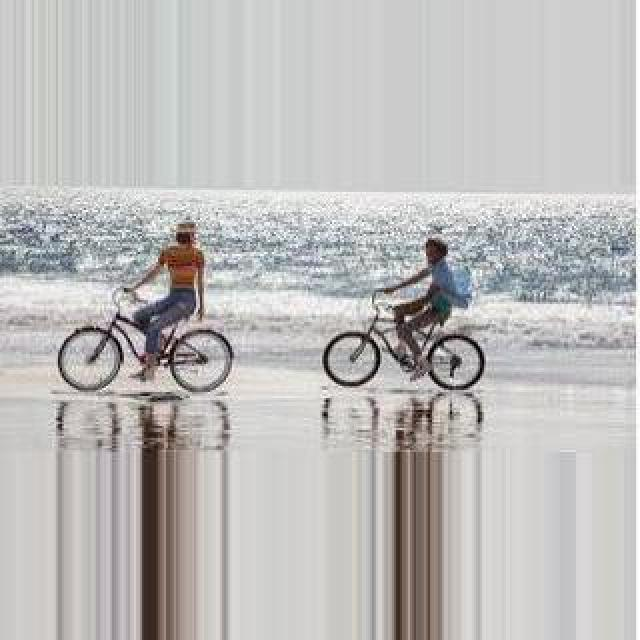MC-Bike: (382, 232, 470, 382), (120, 220, 208, 368)
Person: (58, 280, 236, 394), (323, 283, 487, 393)
